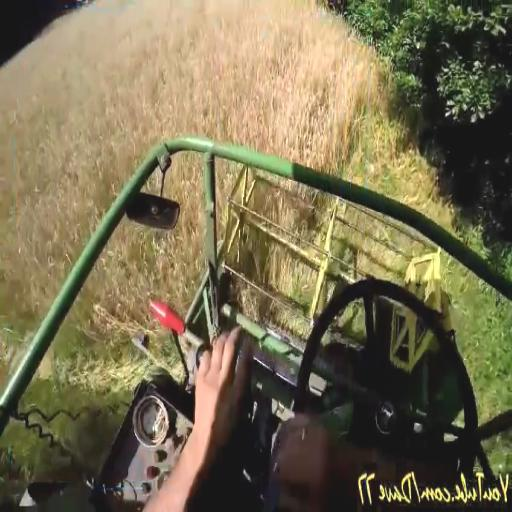bugday: (1, 0, 452, 336), (56, 154, 204, 390), (447, 265, 512, 420)
